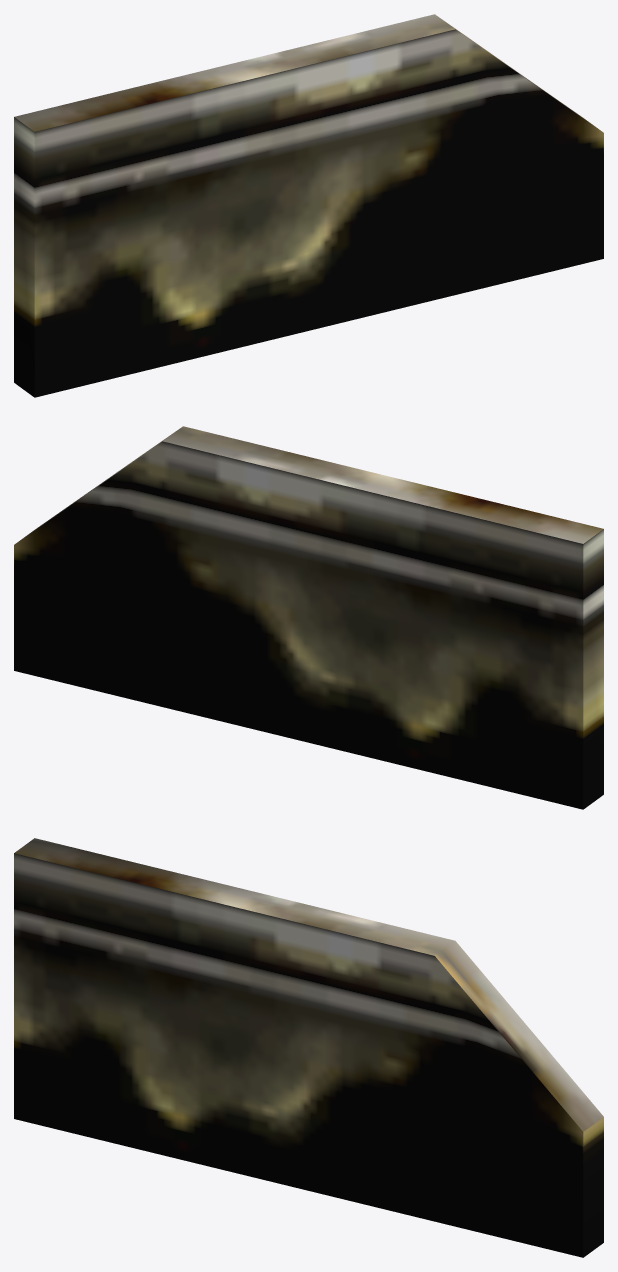
The model's file is USA - Ground Vehicles - Tomahawk - Damage State 3 - avtomahawk_d3.glb.
The picture shows the model from 3 angles, top to bottom: view 1: azimuth 30°, elevation 25°; view 2: azimuth 150°, elevation 25°; view 3: azimuth 330°, elevation 25°; orthographic projection.
Parts seen in each view (by area): view 1: AVTOMAHAWK_D3; view 2: AVTOMAHAWK_D3; view 3: AVTOMAHAWK_D3.
Boxes of the visible parts, left/top/right/bottom form: AVTOMAHAWK_D3: left=14, top=14, right=603, bottom=397; AVTOMAHAWK_D3: left=14, top=426, right=603, bottom=809; AVTOMAHAWK_D3: left=14, top=838, right=603, bottom=1257.
Size of the model in its own units: 13.24 by 5.91 by 0.8329.
1 material, 1 textured.
